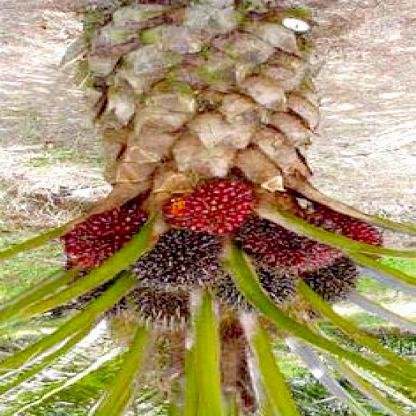1: (162, 173, 259, 235), (252, 218, 344, 270), (319, 210, 388, 257)
palm-oil: (47, 212, 139, 270), (138, 236, 228, 291), (211, 274, 292, 314), (302, 261, 366, 304), (123, 292, 194, 326), (65, 280, 122, 320)
